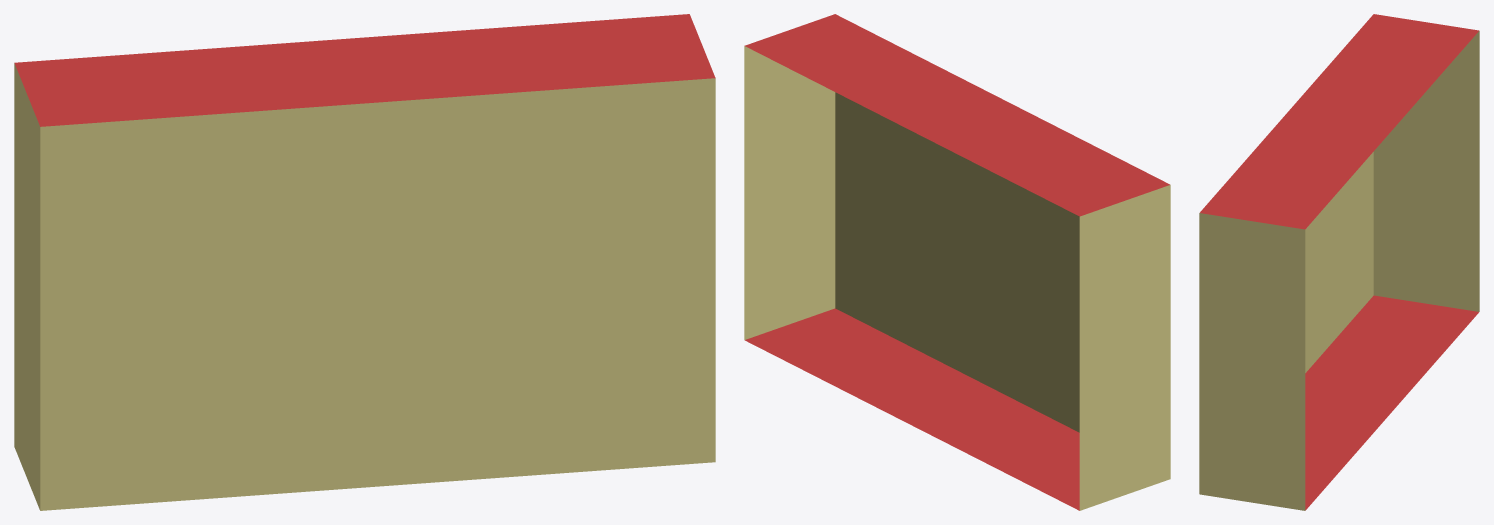
The picture shows the model from 3 angles, left to right: view 1: azimuth 30°, elevation 25°; view 2: azimuth 150°, elevation 25°; view 3: azimuth 270°, elevation 25°; orthographic projection. The views are drawn at different scales.
Bounding box in the file's own units: 8.61 × 4.73 × 5.24.
